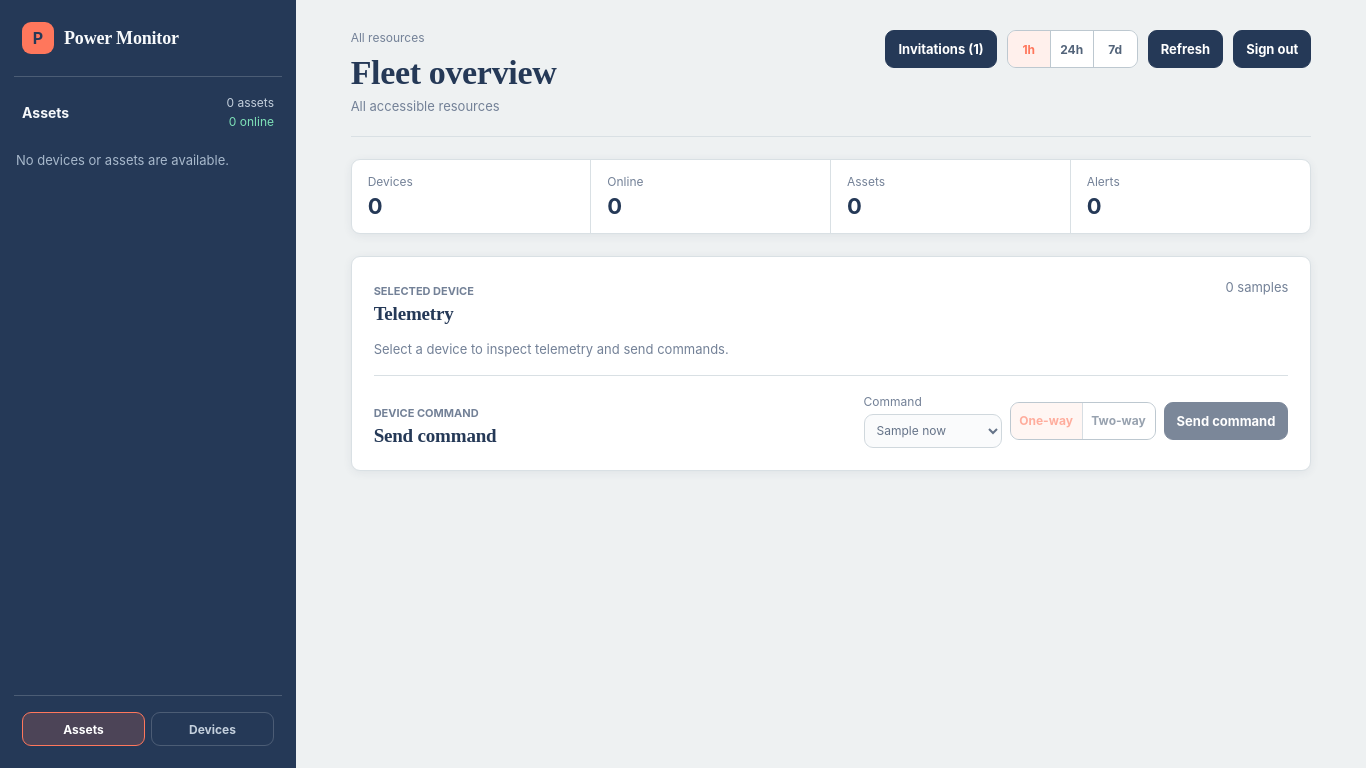
PowerMonitor dashboard › shows pending invitations from the workspace header
Click the button "Invitations (1)" at (941, 49), box [885,30,997,68]
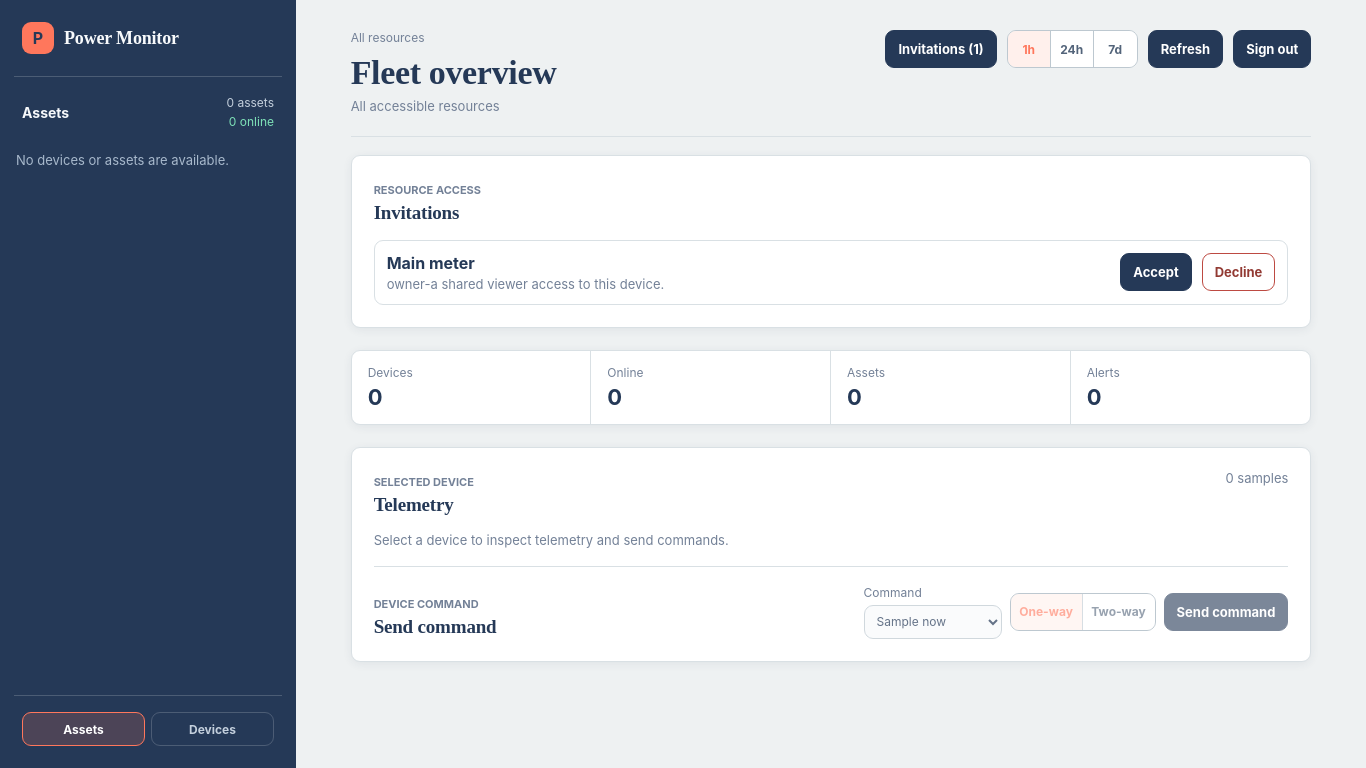
Expected: the text "Main meter" is shown, [387,253,475,273]
Expected: the text "owner-a shared viewer access to this device." is shown, [387,276,664,292]
Expected: the button with aria-label "Accept invitation for Main meter" is shown, [1120,253,1192,291]
